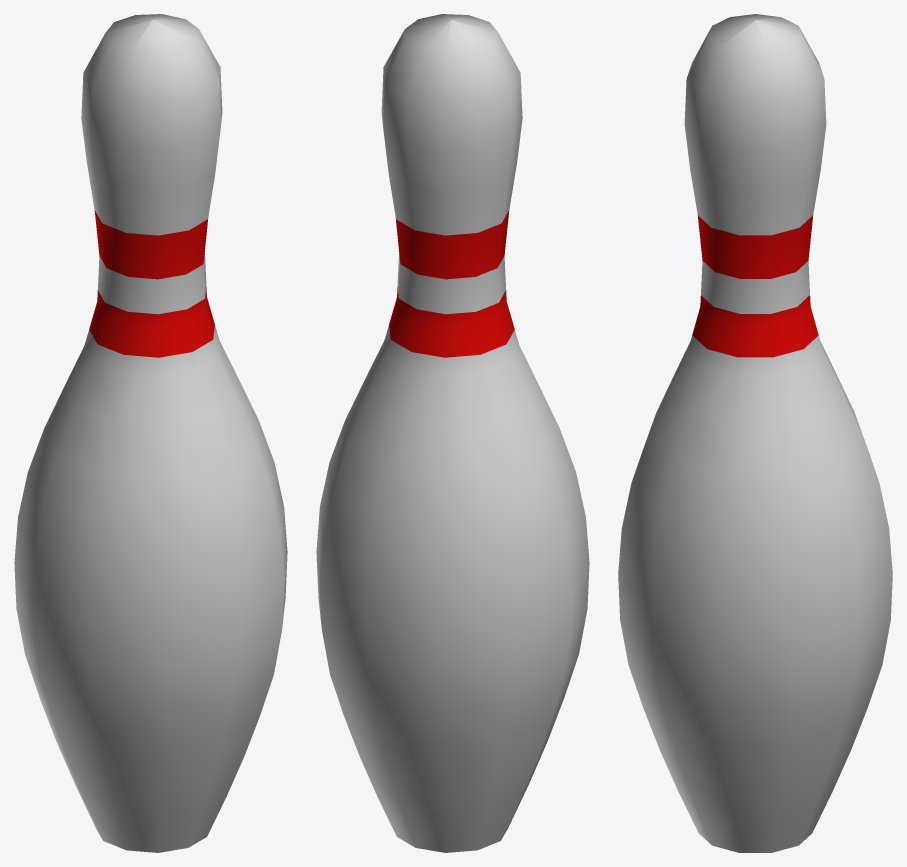
Rendered from WhitePin.fbx.
The picture shows the model from 3 angles, left to right: view 1: azimuth 30°, elevation 25°; view 2: azimuth 150°, elevation 25°; view 3: azimuth 270°, elevation 25°; orthographic projection.
Parts seen in each view (by area): view 1: nurbsToPoly1; view 2: nurbsToPoly1; view 3: nurbsToPoly1.
Boxes of the visible parts, x1,y1,x2,y2 form: nurbsToPoly1: (14, 14, 287, 852); nurbsToPoly1: (316, 14, 589, 852); nurbsToPoly1: (618, 14, 892, 852).
Bounding box in the file's own units: 1.38 × 4.55 × 1.4.
